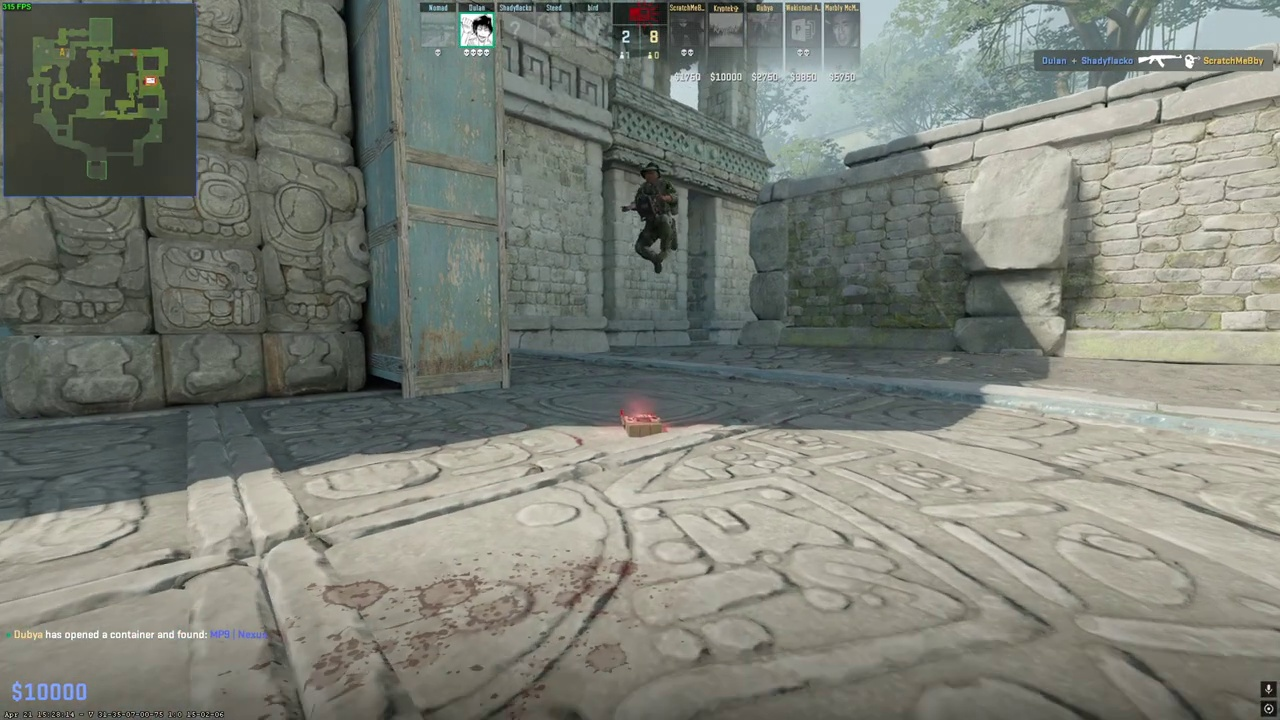CT: (631, 161, 678, 272)
